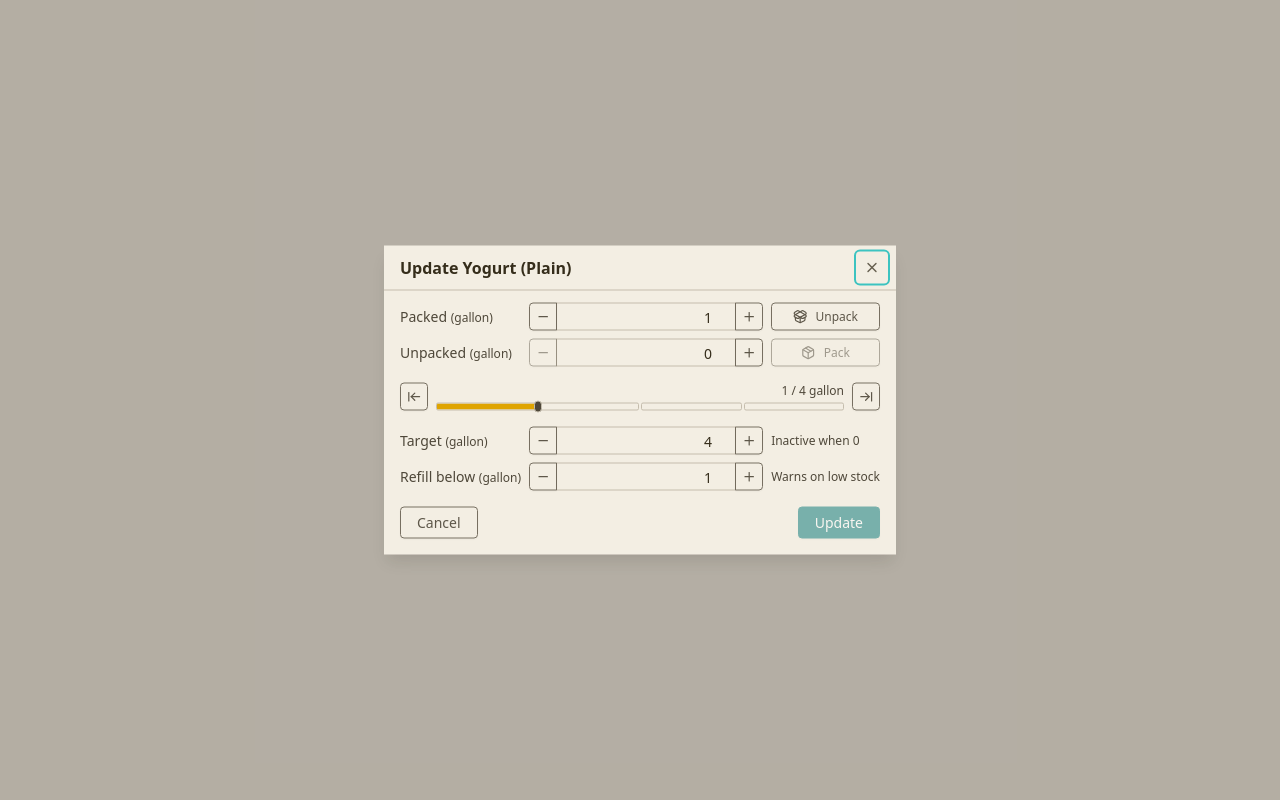
QuickUpdateDialog — live preview of stock settings › user sees the edited target in the quantity label before saving
The image size is (1280, 800).
Check: the text "1 / 4 gallon" is shown, box [782, 382, 844, 398]
// When the user raises the target
Click the button named "Increase target quantity" at (749, 440), box [735, 426, 763, 454]
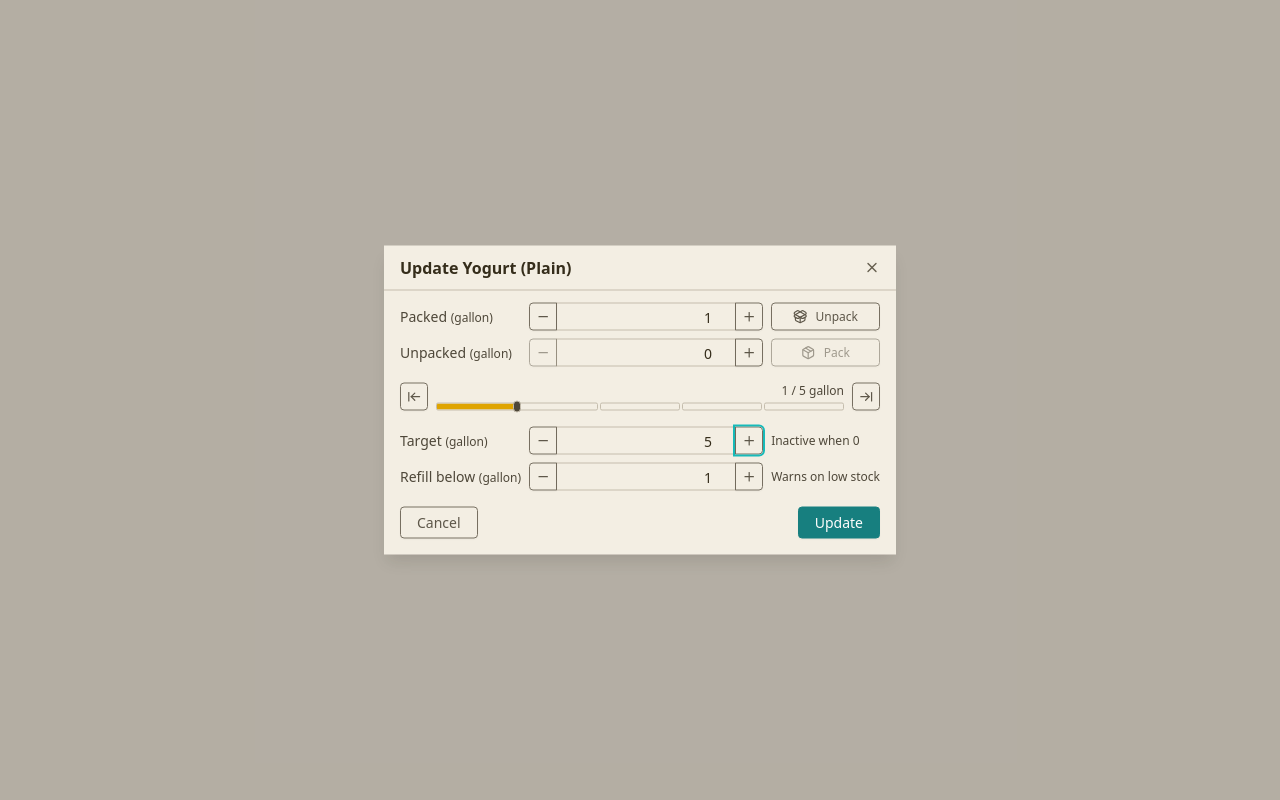
Check: the text "1 / 5 gallon" is shown, box [782, 382, 844, 398]
